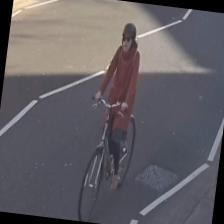person: (84, 18, 144, 191)
